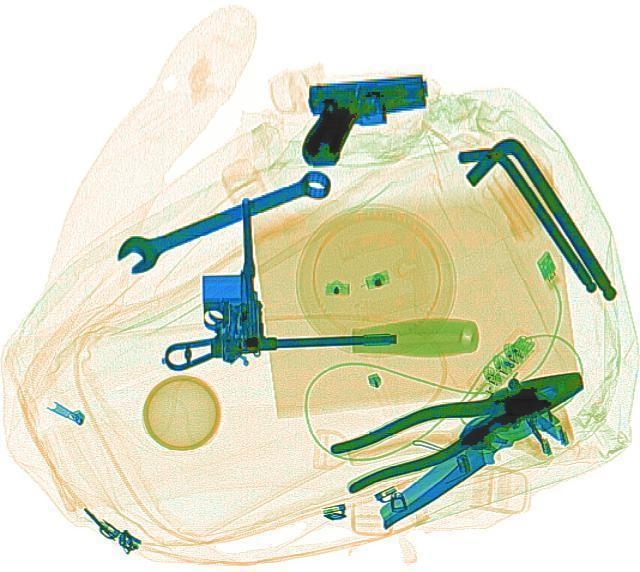Gun: (157, 196, 261, 370), (299, 71, 429, 167)
Pliers: (323, 352, 597, 494)
Wrench: (105, 162, 337, 278)
